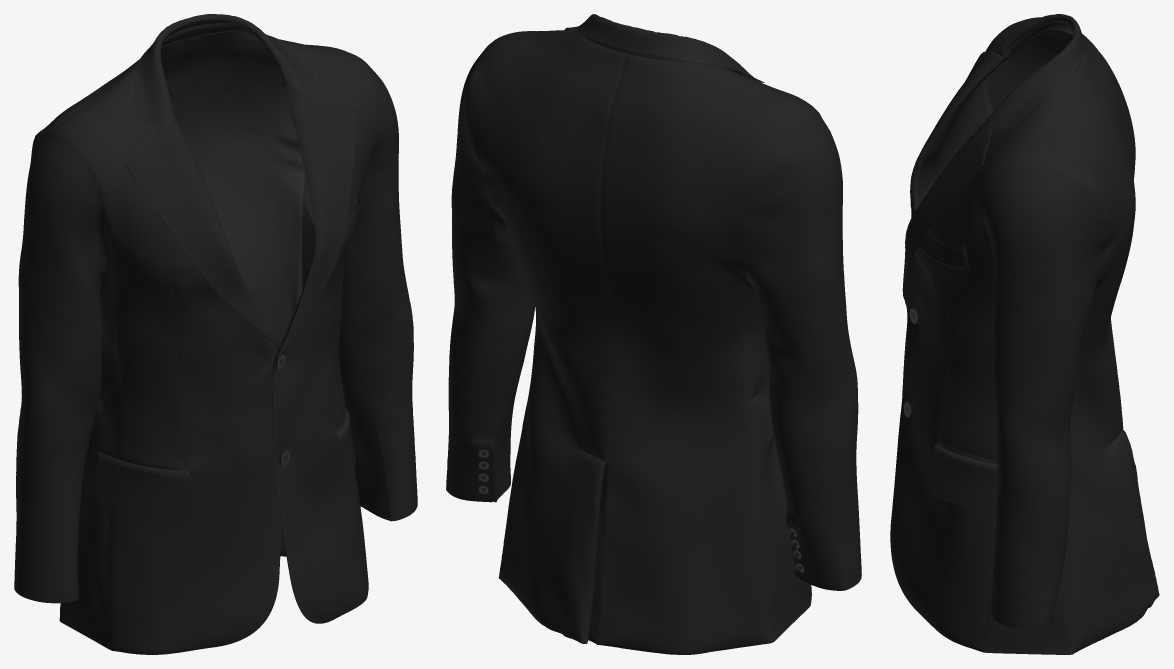
The model's file is blazer.glb.
The picture shows the model from 3 angles, left to right: view 1: azimuth 30°, elevation 25°; view 2: azimuth 150°, elevation 25°; view 3: azimuth 270°, elevation 25°; orthographic projection. The views are drawn at different scales.
Visible parts, largest first — view 1: fbx_0; view 2: fbx_0; view 3: fbx_0.
Boxes of the visible parts, x1,y1,x2,y2 form: fbx_0: [14, 14, 417, 654]; fbx_0: [446, 14, 861, 654]; fbx_0: [890, 14, 1159, 654].
Size of the model in its own units: 55.79 by 77.95 by 33.34.
Materials: 4 (4 with a texture image).
